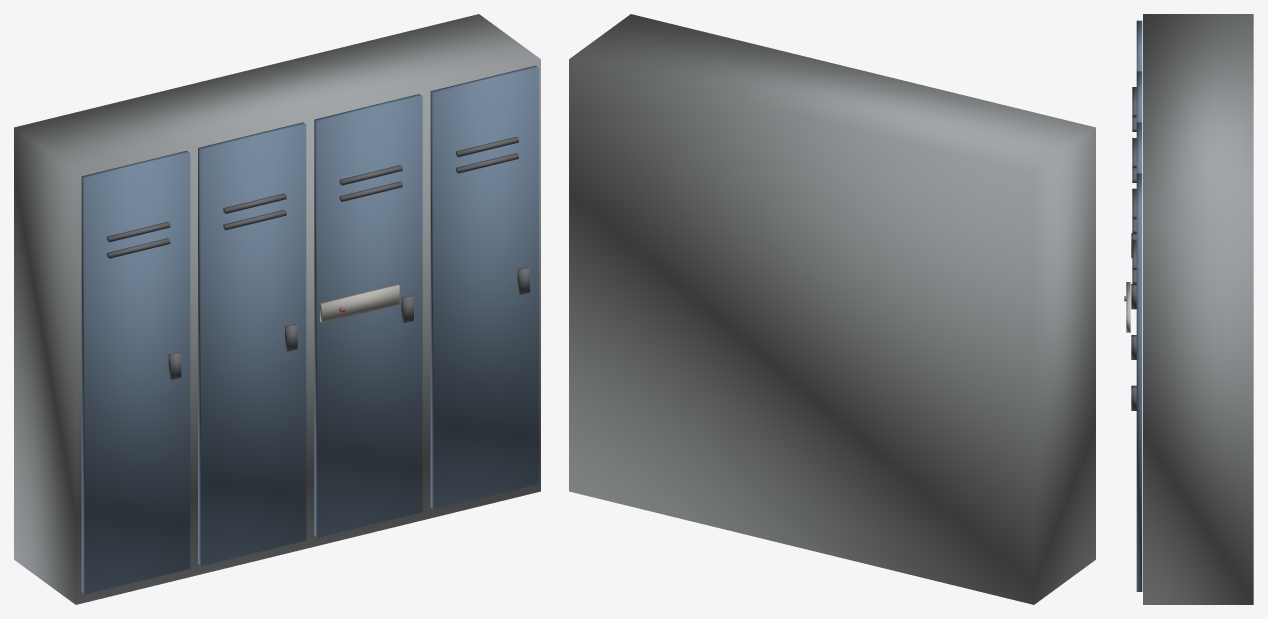
The model's file is property_locker_bank__wide.glb.
The picture shows the model from 3 angles, left to right: view 1: azimuth 30°, elevation 25°; view 2: azimuth 150°, elevation 25°; view 3: azimuth 270°, elevation 25°; orthographic projection. The views are drawn at different scales.
Visible parts, largest first — view 1: world; view 2: world; view 3: world.
Part boxes in pixels (box(x1,y1,x2,y2)): world: box(14, 14, 540, 604); world: box(569, 14, 1095, 604); world: box(1124, 14, 1253, 604).
Size of the model in its own units: 2.08 by 1.85 by 0.561.
